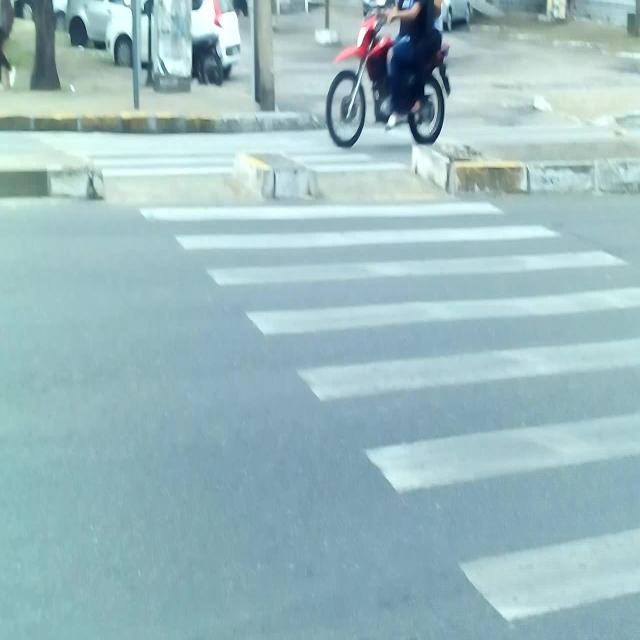crosswalk: (23, 127, 640, 640)
